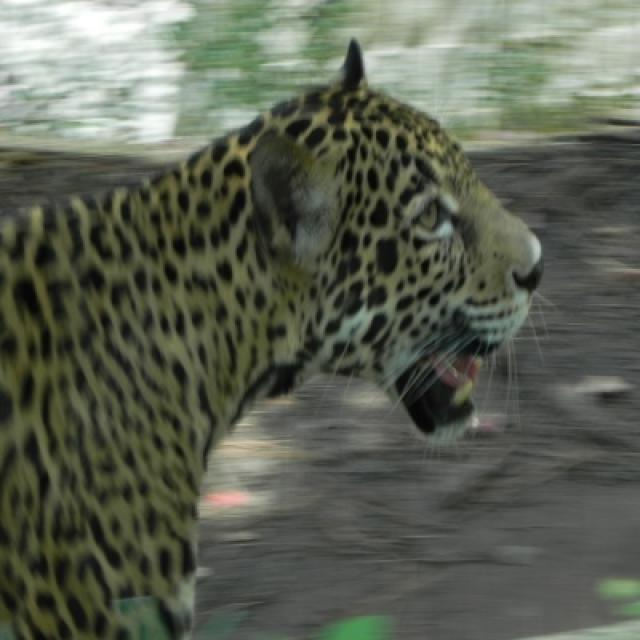Jaguar: (0, 40, 544, 638)
